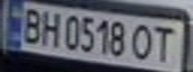0: (60, 11, 81, 52)
1: (93, 16, 112, 55)
5: (78, 15, 96, 53)
8: (109, 18, 130, 57)
B: (18, 5, 45, 44)
H: (36, 8, 63, 47)
O: (127, 21, 157, 62)
T: (148, 24, 181, 64)
